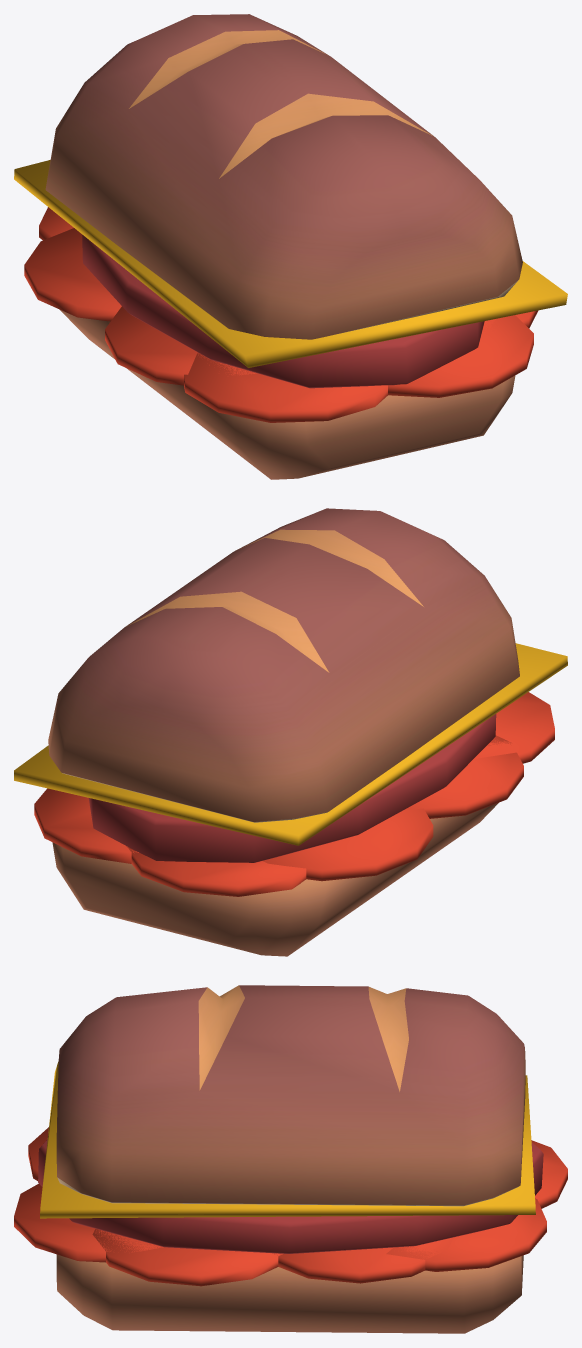
File: Subway Sandwich.fbx
The picture shows the model from 3 angles, top to bottom: view 1: azimuth 30°, elevation 25°; view 2: azimuth 150°, elevation 25°; view 3: azimuth 270°, elevation 25°; orthographic projection. The views are drawn at different scales.
Visible parts, largest first — view 1: Subway Sandwich; view 2: Subway Sandwich; view 3: Subway Sandwich.
Boxes of the visible parts, left/top/right/bottom form: Subway Sandwich: left=14, top=14, right=567, bottom=479; Subway Sandwich: left=14, top=508, right=567, bottom=956; Subway Sandwich: left=14, top=985, right=567, bottom=1333.
Bounding box in the file's own units: 39.98 × 30.53 × 53.39.
